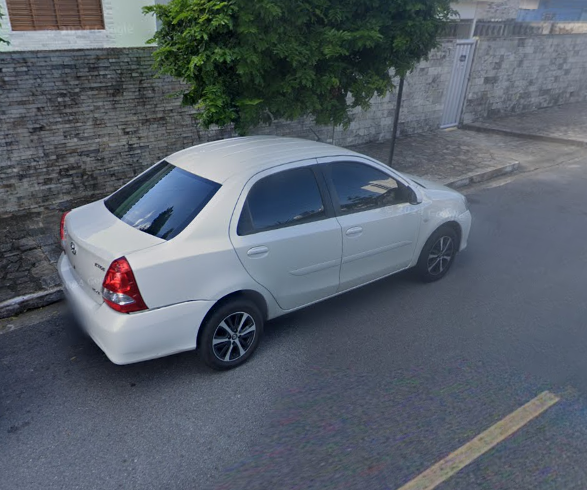car: (57, 126, 476, 374)
